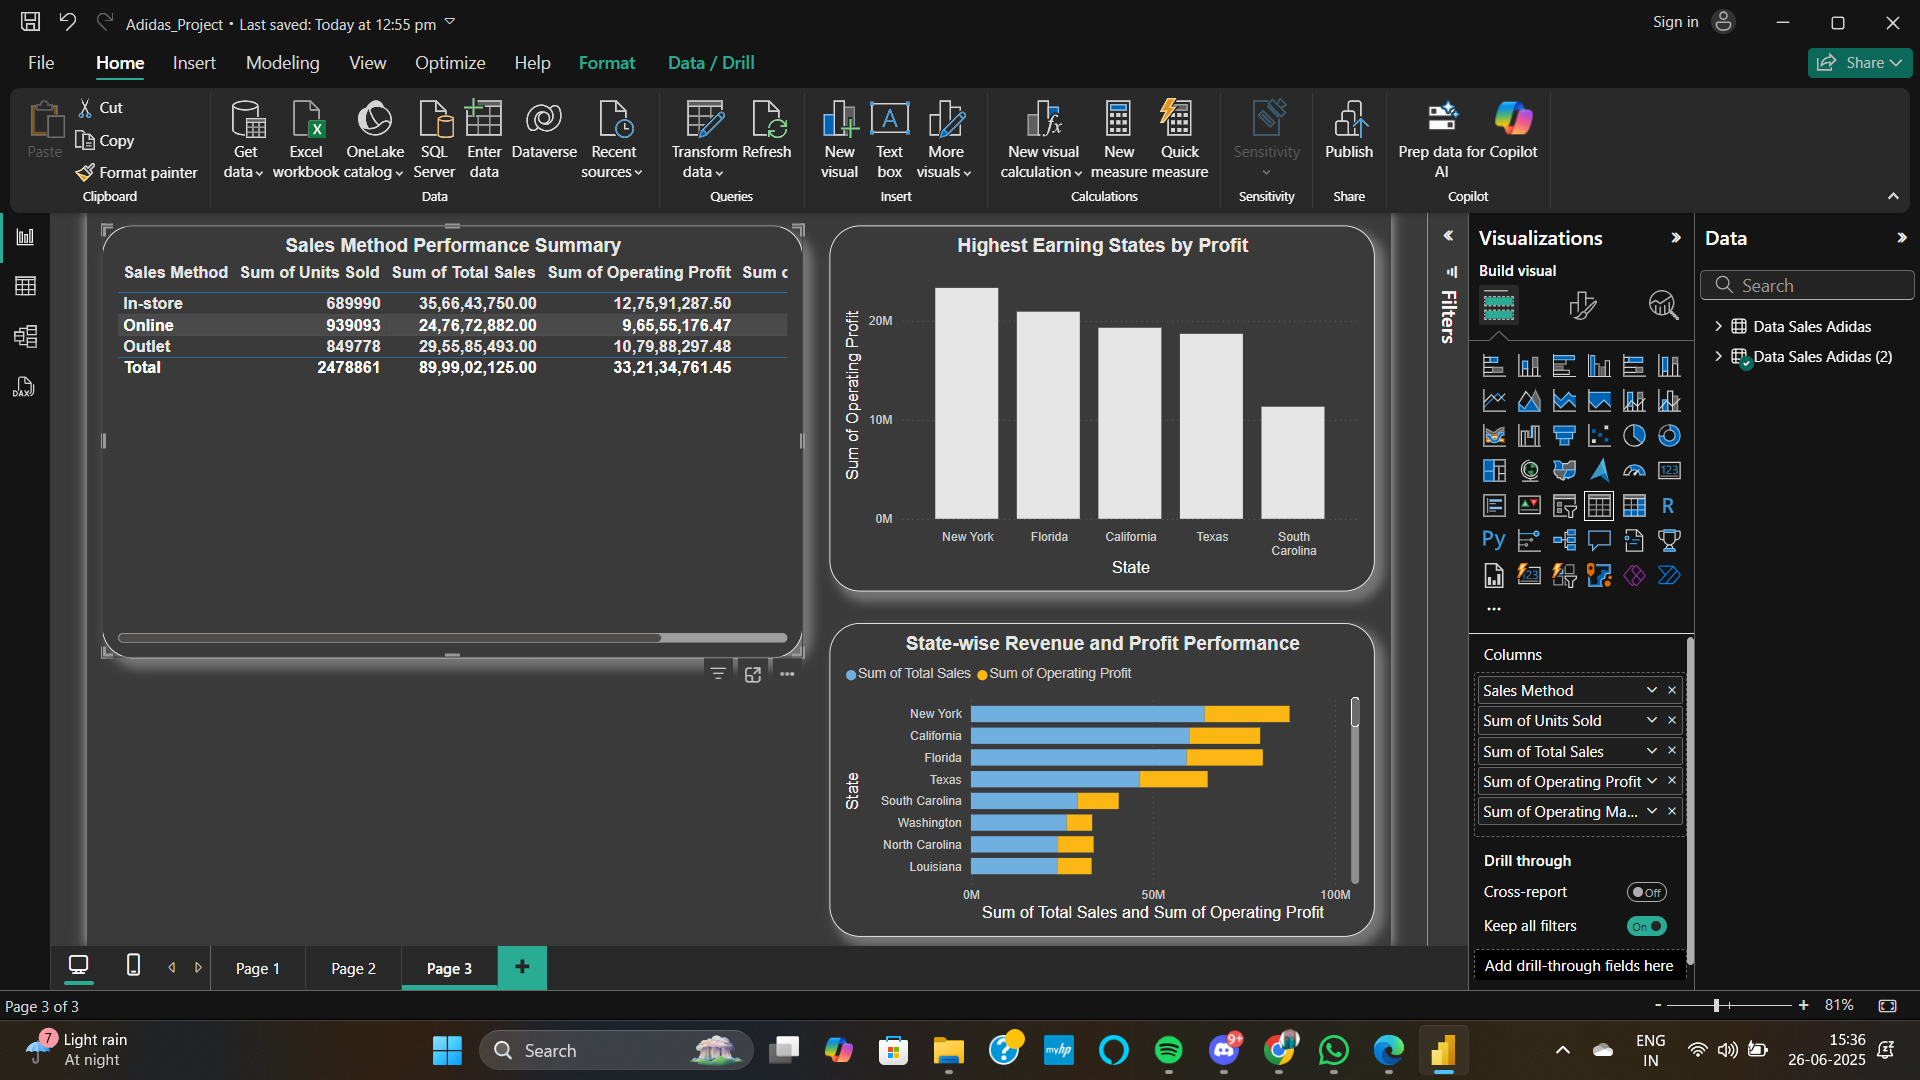

The dashboard page shown, as its layout file describes it:
{"tool":"powerbi","page":{"name":"Page 3","canvas":[1280,720],"ordinal":2},"visuals":[{"type":"tableEx","title":"Sales Method Performance Summary","fields":{"Values":["Data Sales Adidas (2).Sales Method","Sum(Data Sales Adidas (2).Units Sold)","Sum(Data Sales Adidas (2).Total Sales)","Sum(Data Sales Adidas (2).Operating Profit)","Sum(Data Sales Adidas (2).Operating Margin)"]},"box":[15.1,12.8,688.4,211.6],"z":0},{"type":"map","title":"Sales Performance by State","fields":{"Category":["Data Sales Adidas (2).State"]},"box":[14,268.6,689.5,441.9],"z":1000},{"type":"barChart","title":"State-wise Revenue and Profit Performance","fields":{"Category":["Data Sales Adidas (2).State"],"Y":["Sum(Data Sales Adidas (2).Total Sales)","Sum(Data Sales Adidas (2).Operating Profit)"]},"box":[729.1,402.3,534.9,308.1],"z":2000},{"type":"columnChart","title":"Highest Earning States by Profit","fields":{"Y":["Sum(Data Sales Adidas (2).Operating Profit)"],"Category":["Data Sales Adidas (2).State"]},"box":[729.1,12.8,534.9,359.3],"z":3000}]}

Visuals, with their boxes on the page's 1280x720 design canvas (x1, y1, x2, y2). These are canvas units, not pixel positions in the 1920x1080 screenshot, which may show the page scaled, cropped or inside an application window:
"Sales Method Performance Summary" tableEx: 15, 13, 704, 224
"Sales Performance by State" map: 14, 269, 704, 710
"State-wise Revenue and Profit Performance" barChart: 729, 402, 1264, 710
"Highest Earning States by Profit" columnChart: 729, 13, 1264, 372
